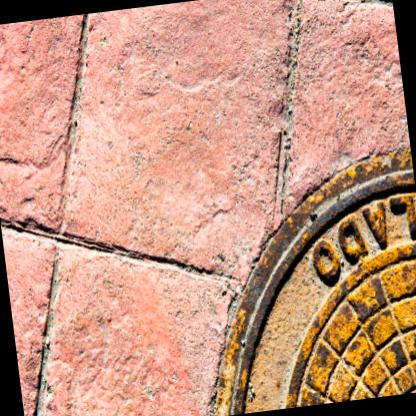manholes: (119, 115, 416, 416)
